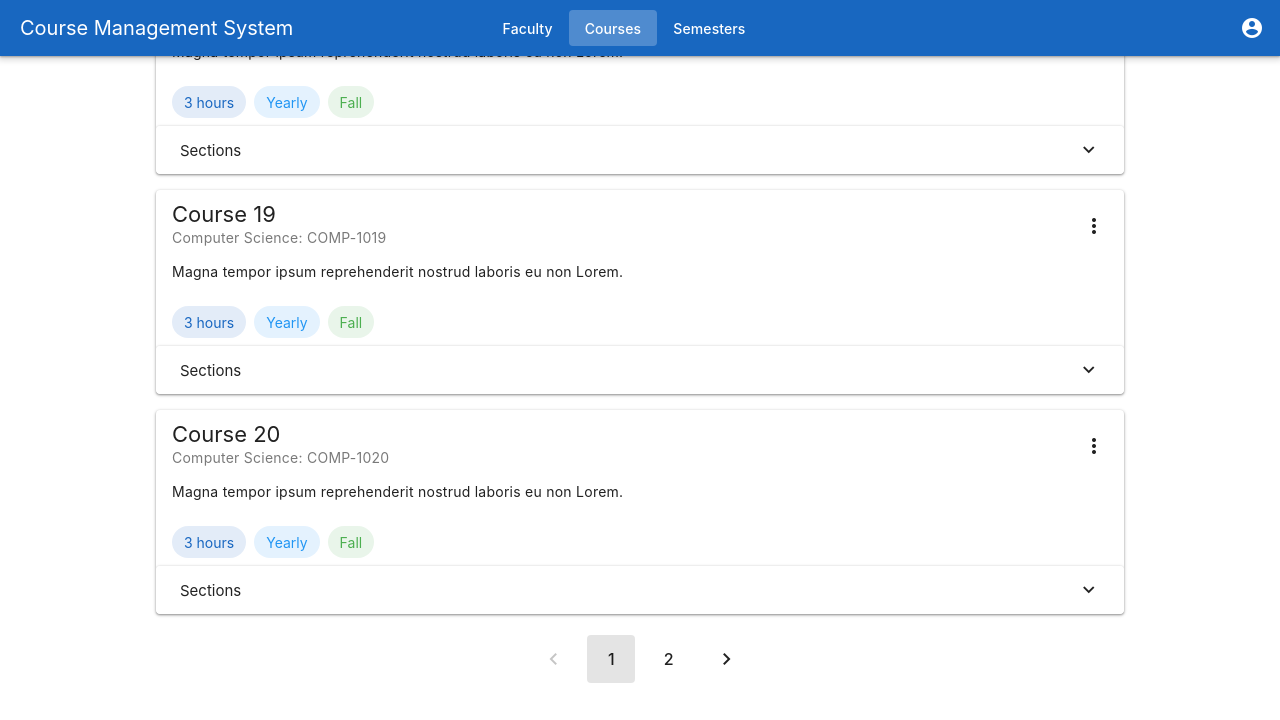
Feature 3 — Course Management UI › US-3.3 — Search/filter/paginate courses › Admin paginates through courses
(page scrolled)
Click the button named "Next page": coordinates (726, 659) [702,635,750,683]
(page scrolled)
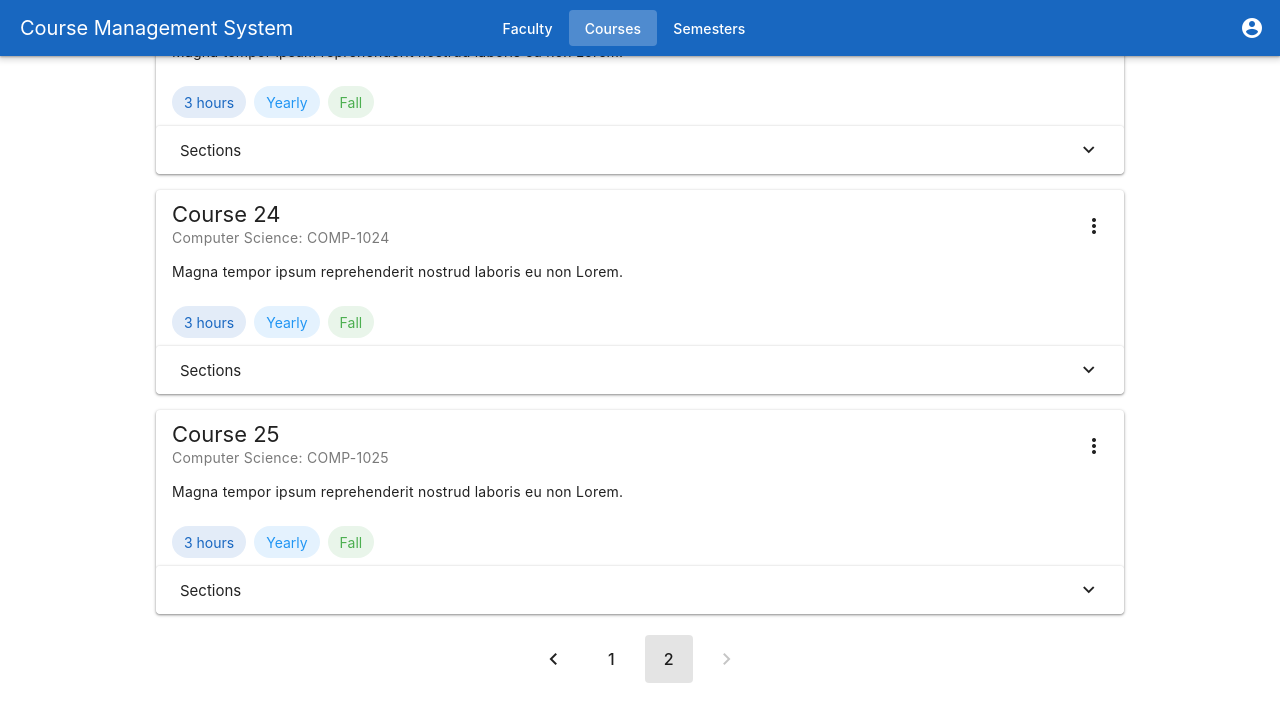
Result: the text "COMP-1025" is shown at [172,449,389,466]
